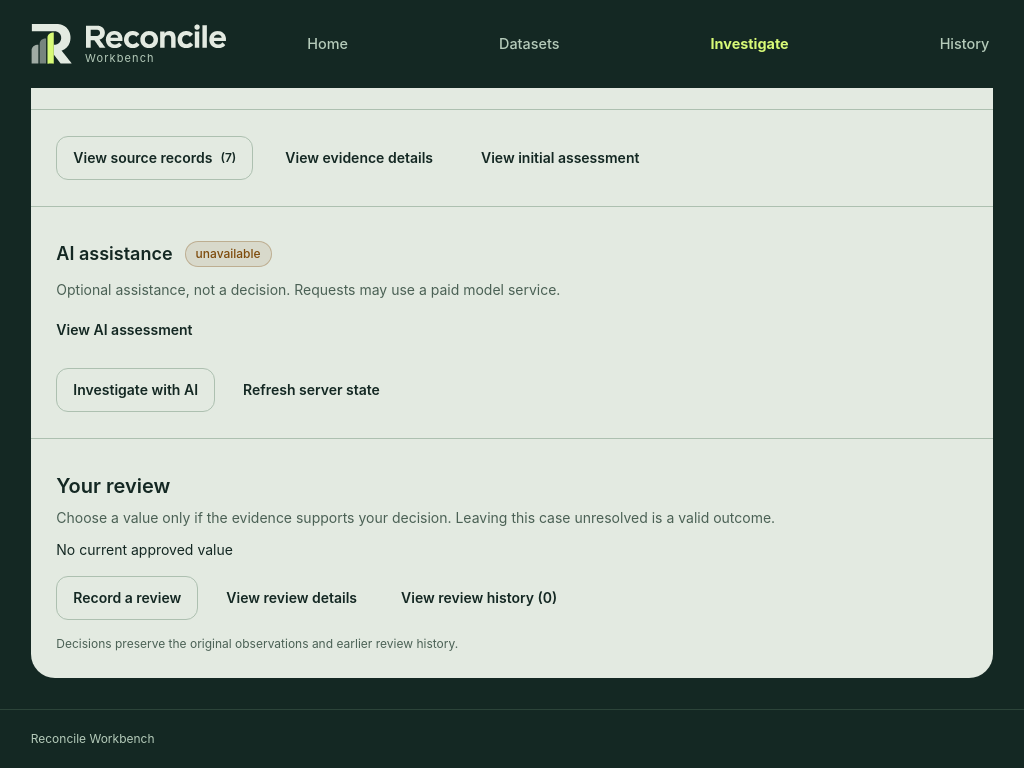
does not post AI or review on load and provides human review without configured AI
This screenshot has width=1024, height=768.
(page scrolled)
expect the heading "Your review" is shown: met, box [56,474,170,498]
Click the button "Record a review": (127, 598) [56,576,198,620]
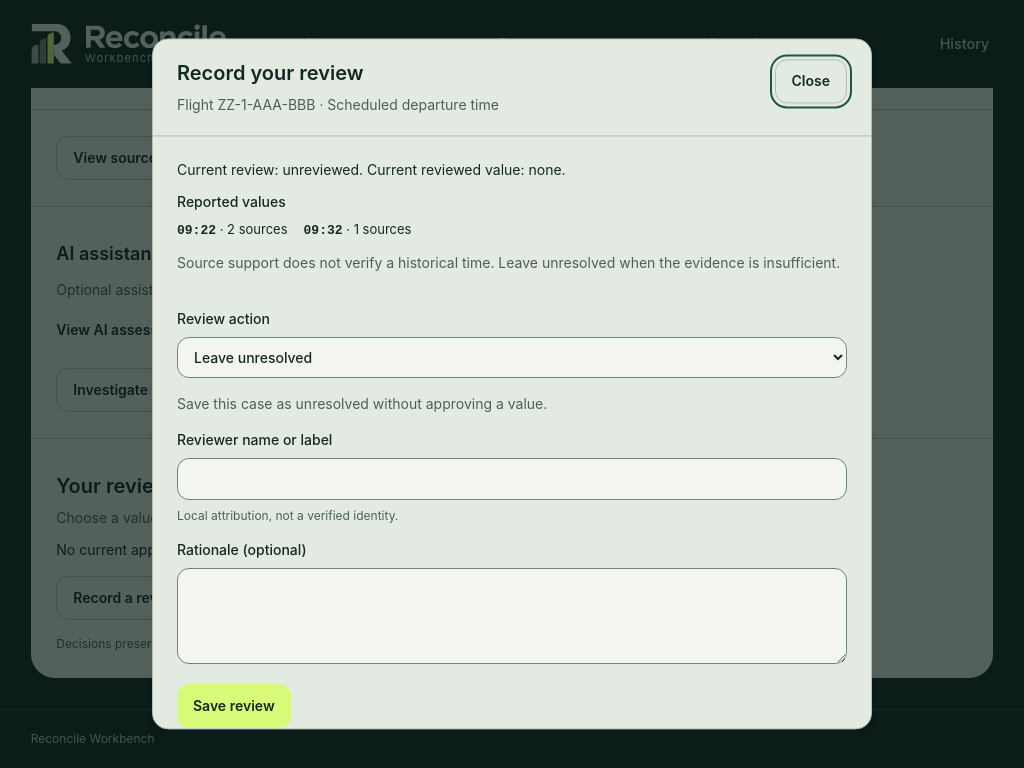
expect the button "Save review" is enabled: met, box [177,684,291,728]
In the field labelled "Reviewer name or label": (512, 479) [177,458,847,500], type "Local analyst"
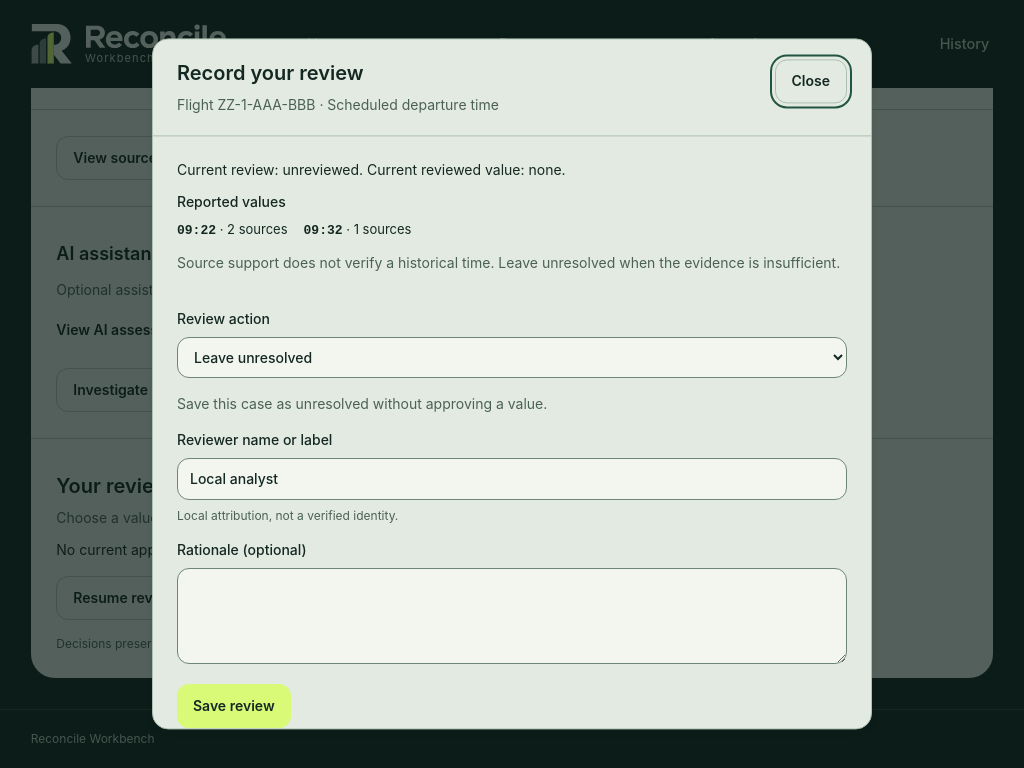
Click the button "Save review": (234, 706) [177,684,291,728]
(page scrolled)
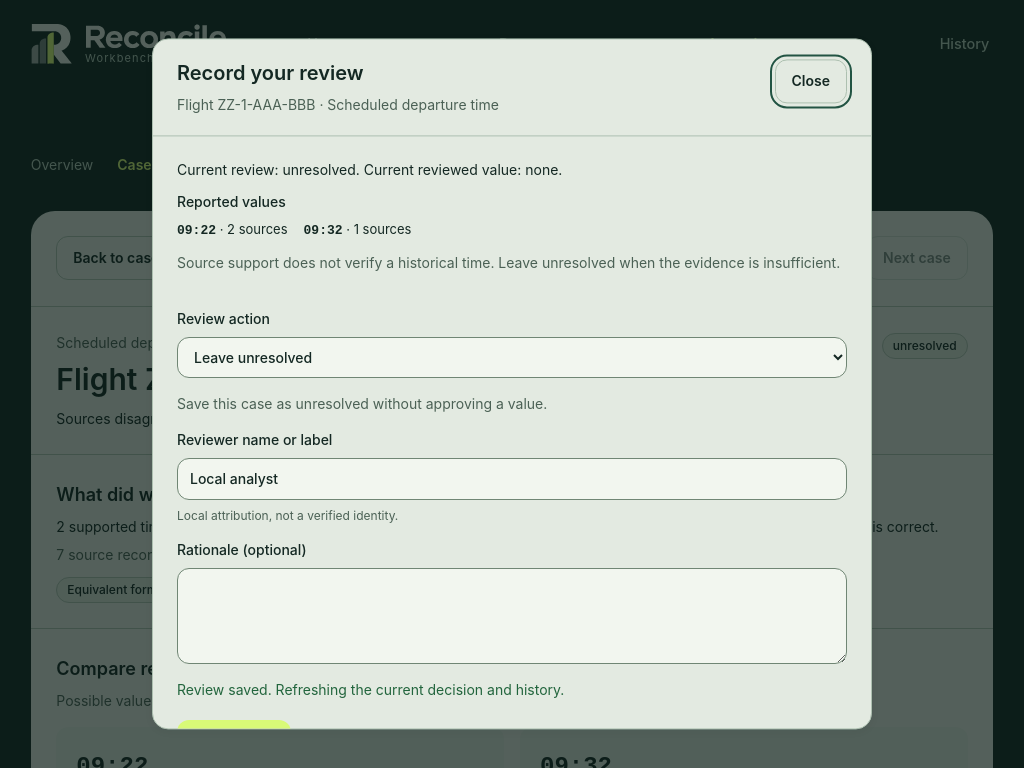
expect the text "Review saved. Refreshing the current decision and history." is shown: met, box [177,681,564,698]
expect the text "unresolved" is shown: met, box [882,332,968,358]
